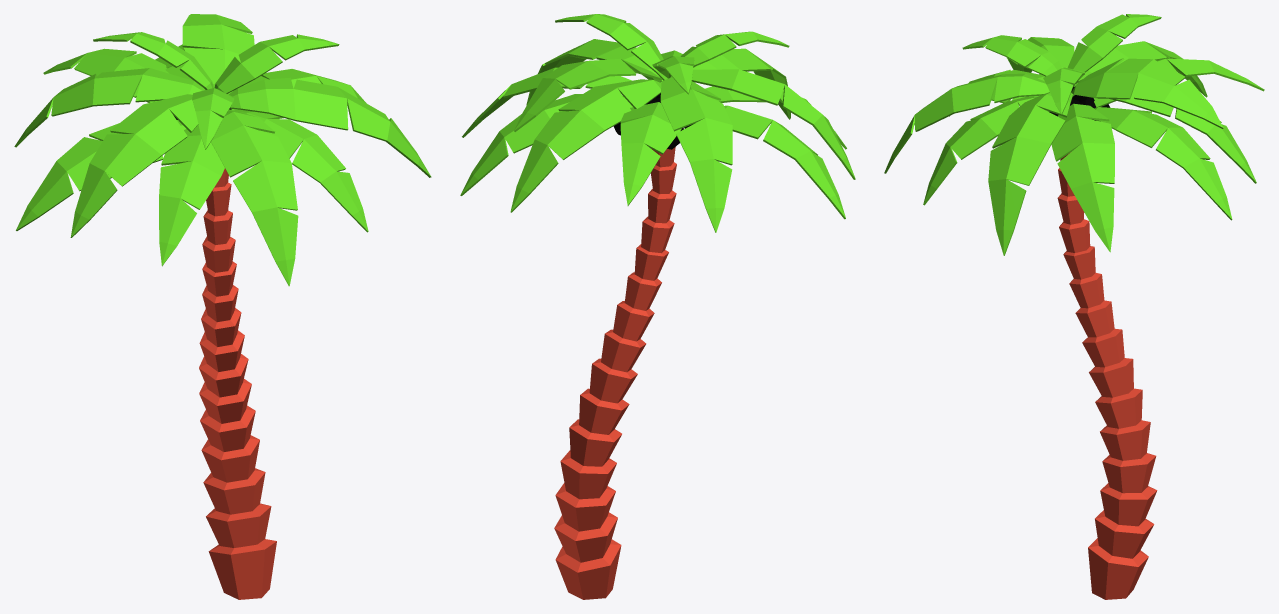
Rendered from Palm_9.fbx.
3 renders of one model, left to right at view 1: azimuth 30°, elevation 25°; view 2: azimuth 150°, elevation 25°; view 3: azimuth 270°, elevation 25°, orthographic. The views are drawn at different scales.
Parts seen in each view (by area): view 1: Palm_9; view 2: Palm_9; view 3: Palm_9.
Boxes of the visible parts, left/top/right/bottom form: Palm_9: left=14, top=14, right=431, bottom=599; Palm_9: left=460, top=14, right=855, bottom=599; Palm_9: left=884, top=14, right=1264, bottom=599.
Size of the model in its own units: 2.76 by 3.97 by 2.6.
